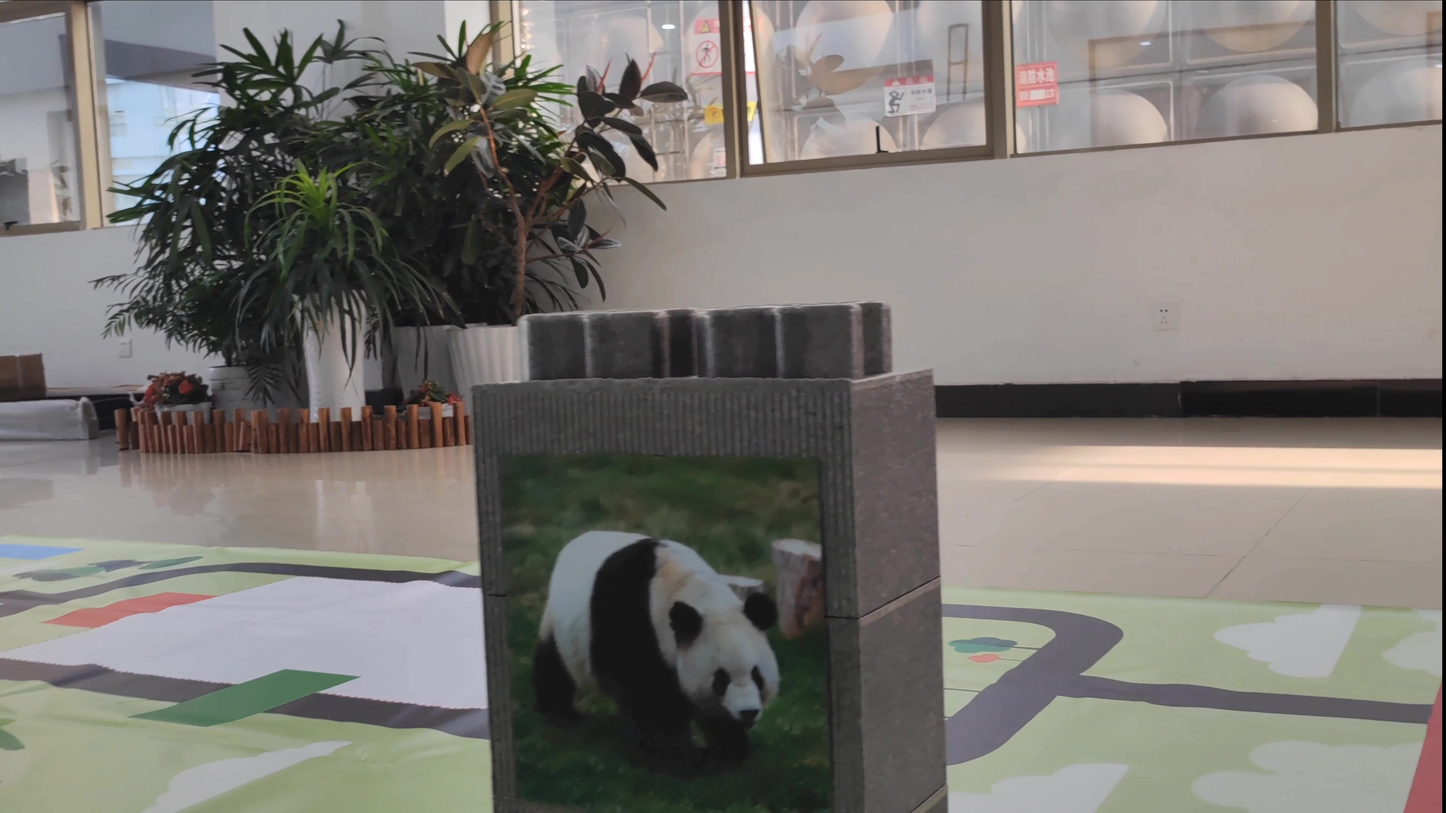panda: (516, 465, 804, 784)
